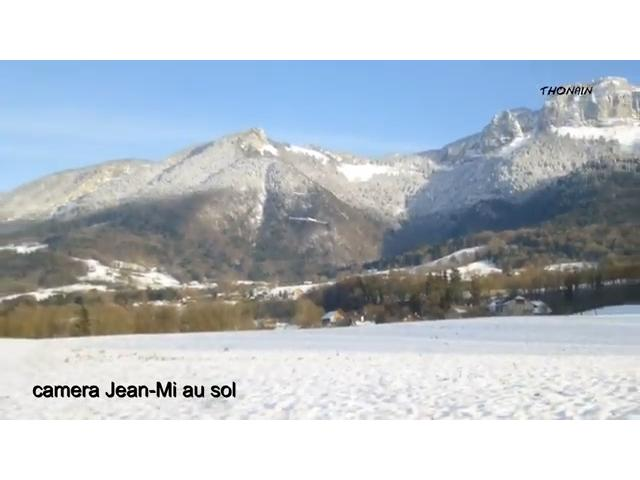Anti-Drone: (290, 216, 328, 224)
